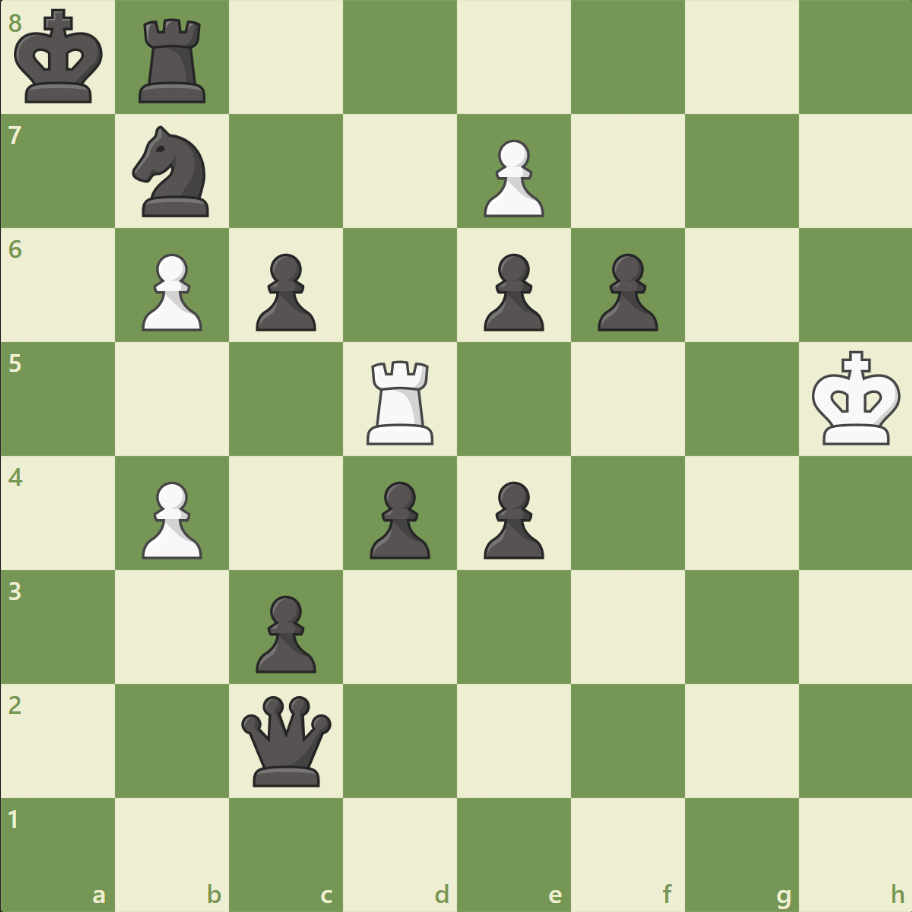K: (806, 344, 906, 452)
P: (474, 132, 549, 223), (133, 246, 208, 337), (133, 473, 208, 564)
R: (360, 352, 442, 449)
k: (11, 4, 111, 112)
n: (124, 121, 222, 223)
p: (247, 246, 322, 337), (474, 246, 549, 337), (474, 473, 549, 564), (247, 586, 322, 677), (588, 246, 662, 337), (361, 473, 435, 564)
q: (237, 690, 336, 789)
r: (133, 12, 215, 109)
